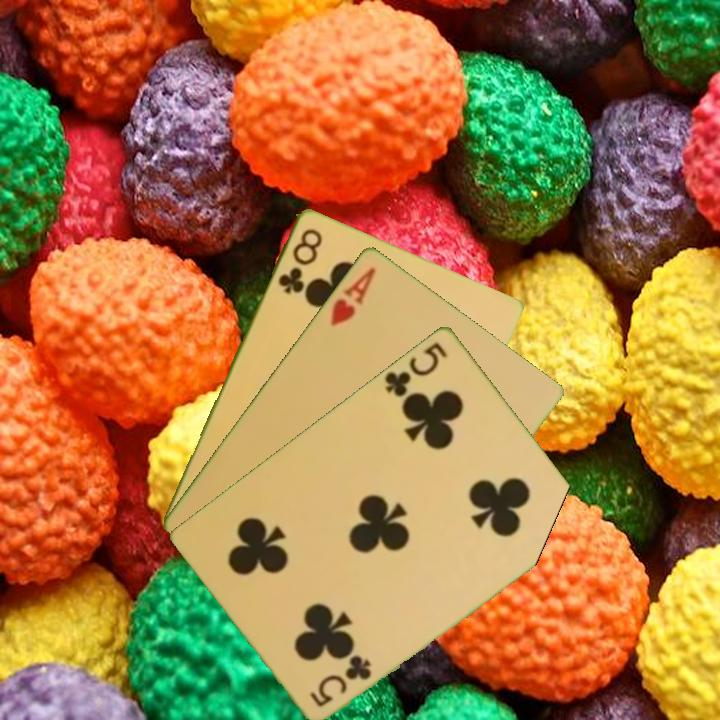5c: (380, 338, 450, 400), (306, 651, 375, 710)
8c: (274, 224, 325, 297)
Ah: (326, 263, 379, 329)
